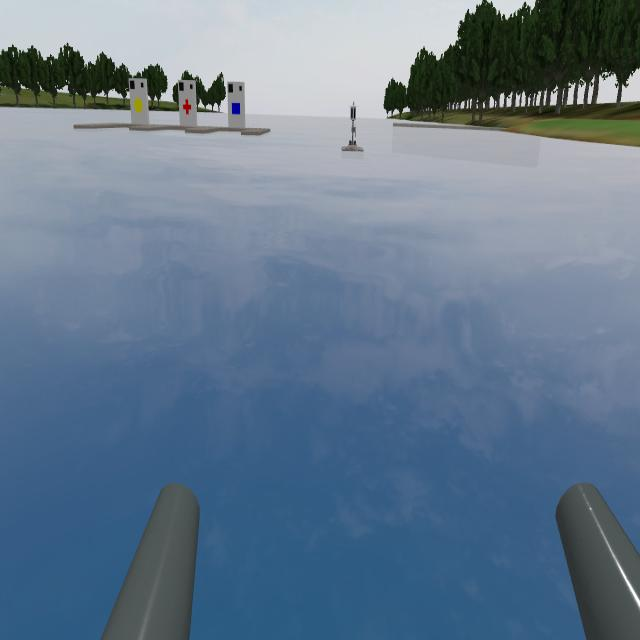black_pole: (348, 99, 361, 125)
